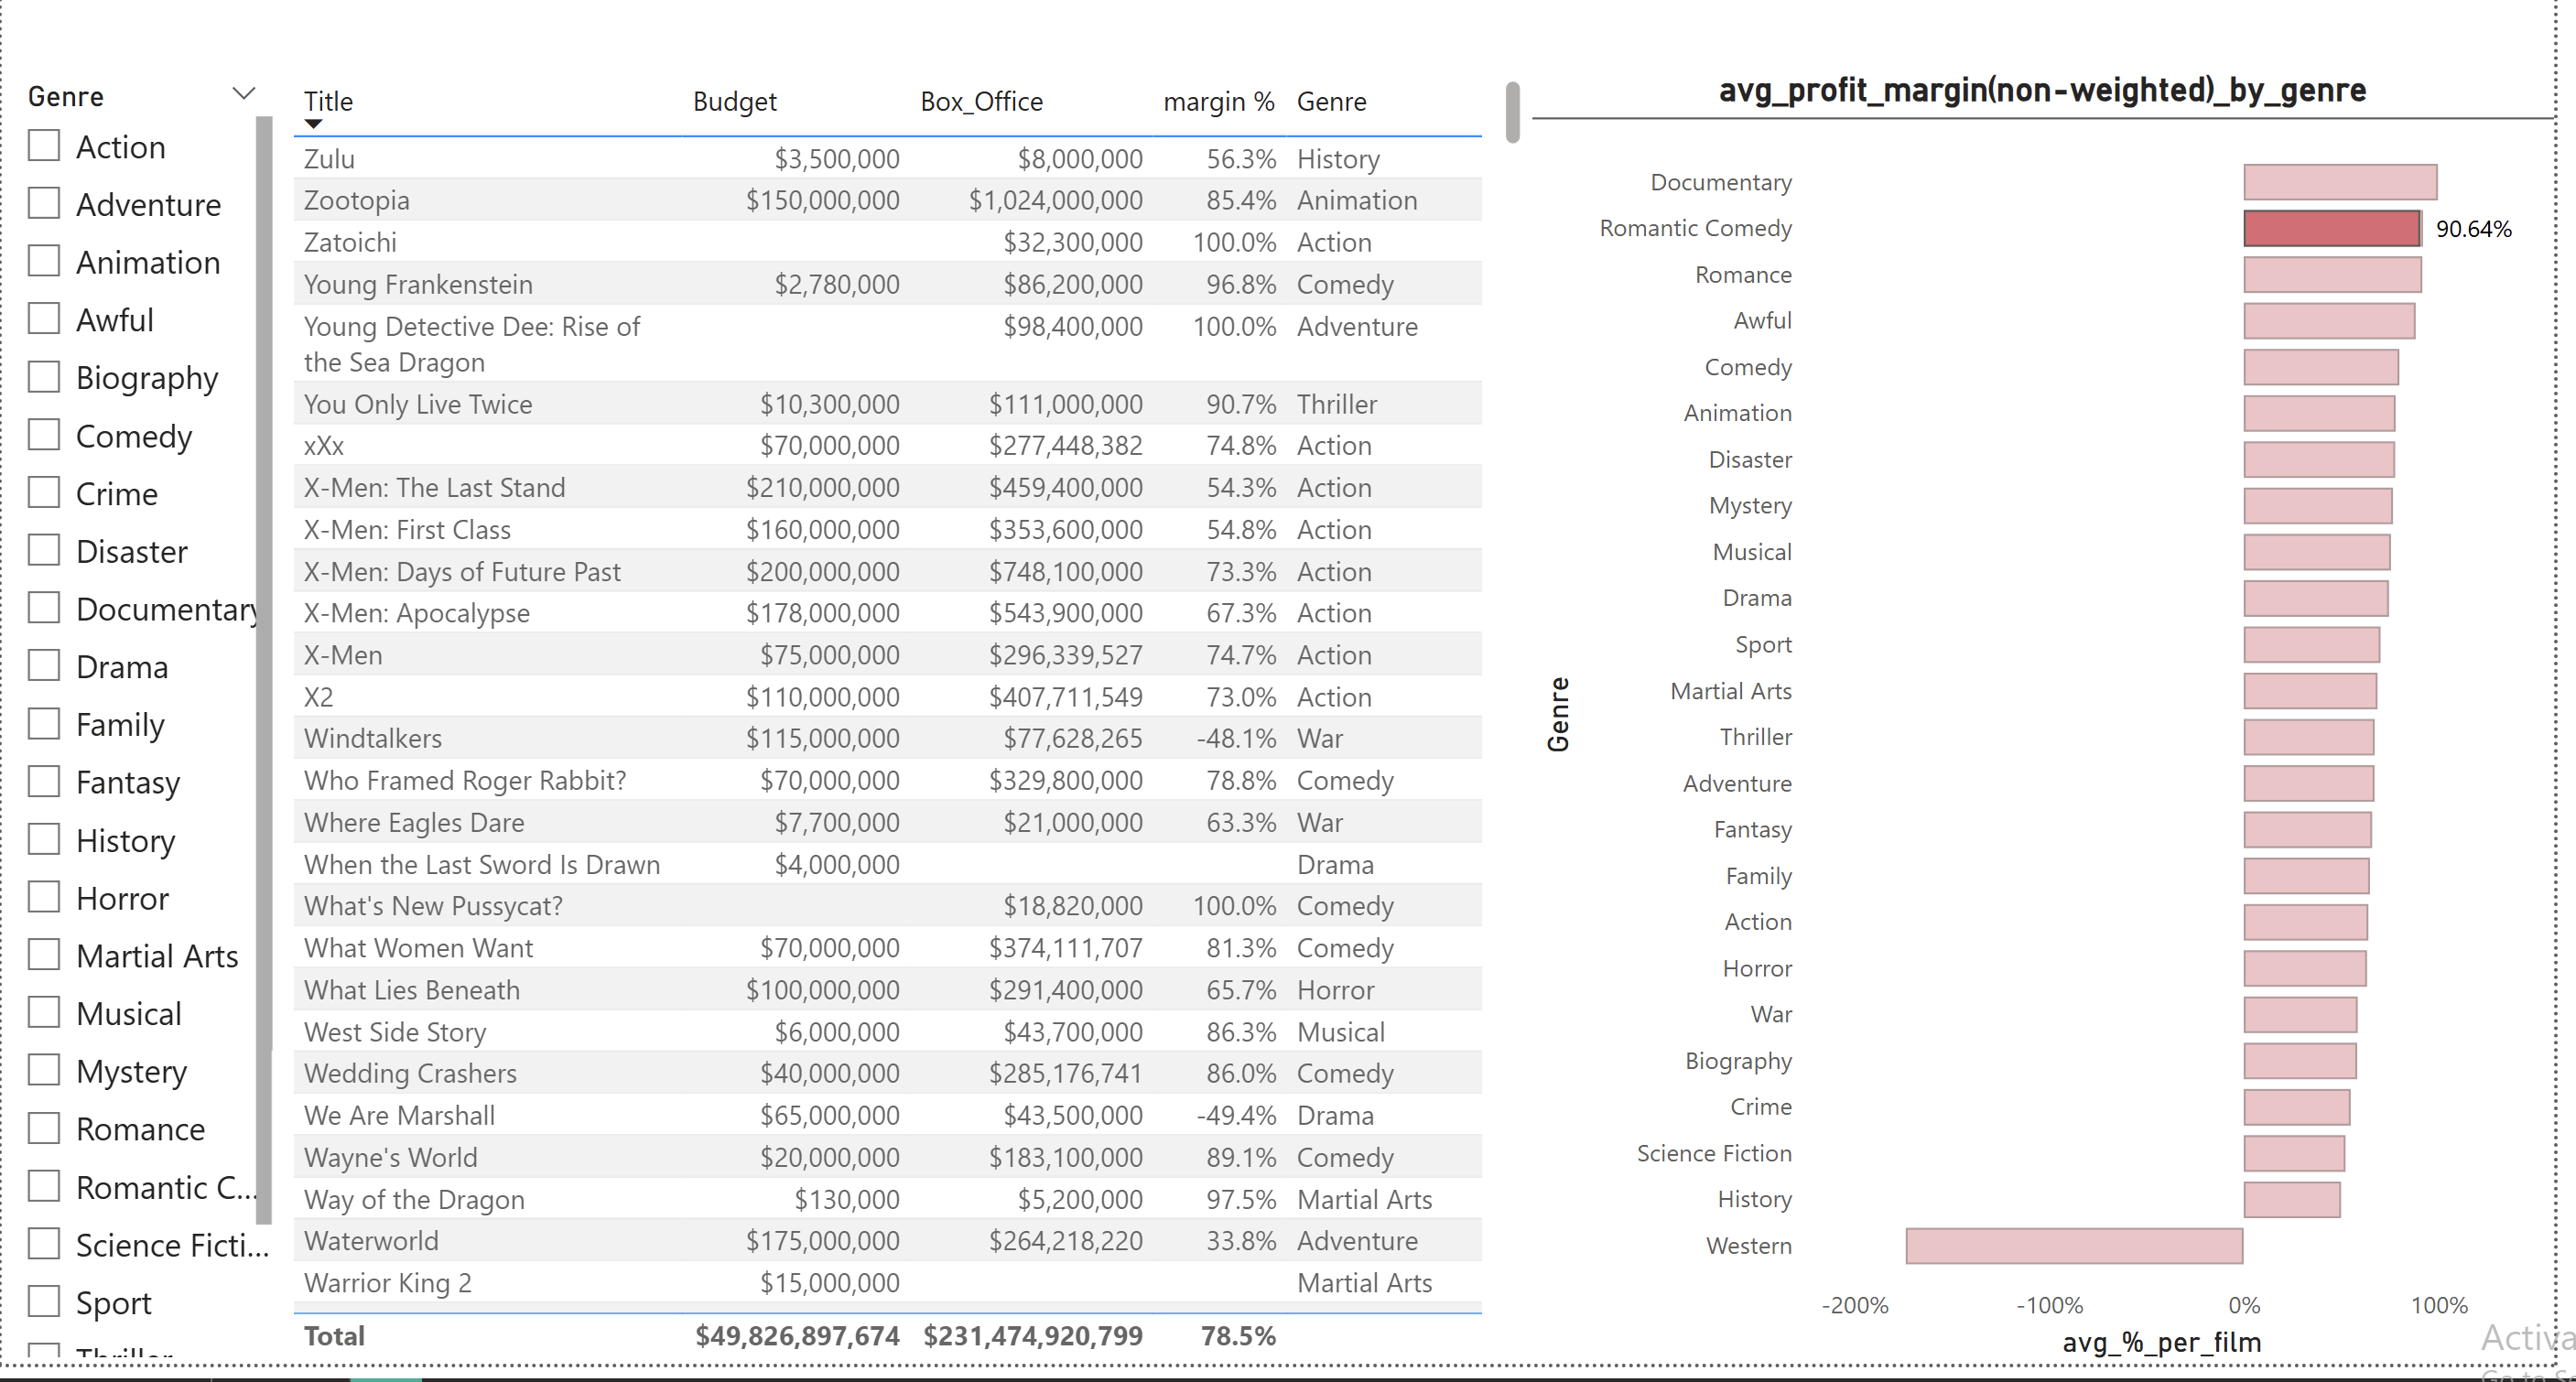

The dashboard page shown, as its layout file describes it:
{"tool":"powerbi","page":{"name":"Page 1","canvas":[1280,720],"ordinal":0},"visuals":[{"type":"tableEx","fields":{"Values":["Films.Title","Sum(Films.BudgetDollars)","Sum(Films.BoxOfficeDollars)","Measures (2).margin %"]},"box":[246.5,70.6,520.8,650.4],"z":0},{"type":"slicer","fields":{"Values":["Genre.Genre"]},"box":[0,70.6,246.5,650.4],"z":1},{"type":"clusteredBarChart","title":"avg_profit_margin(non-weighted)_by_genre","fields":{"Y":["Measures (2).avg_%_per_film"],"Category":["Genre.Genre"]},"box":[767.3,70.6,512.7,650.4],"z":2}]}

Visuals, with their boxes on the page's 1280x720 design canvas (x1, y1, x2, y2). These are canvas units, not pixel positions in the 2576x1382 screenshot, which may show the page scaled, cropped or inside an application window:
tableEx - Films.Title x Sum(Films.BudgetDollars): l=246, t=71, r=767, b=721
slicer - Genre.Genre: l=0, t=71, r=246, b=721
"avg_profit_margin(non-weighted)_by_genre" clusteredBarChart: l=767, t=71, r=1280, b=721
